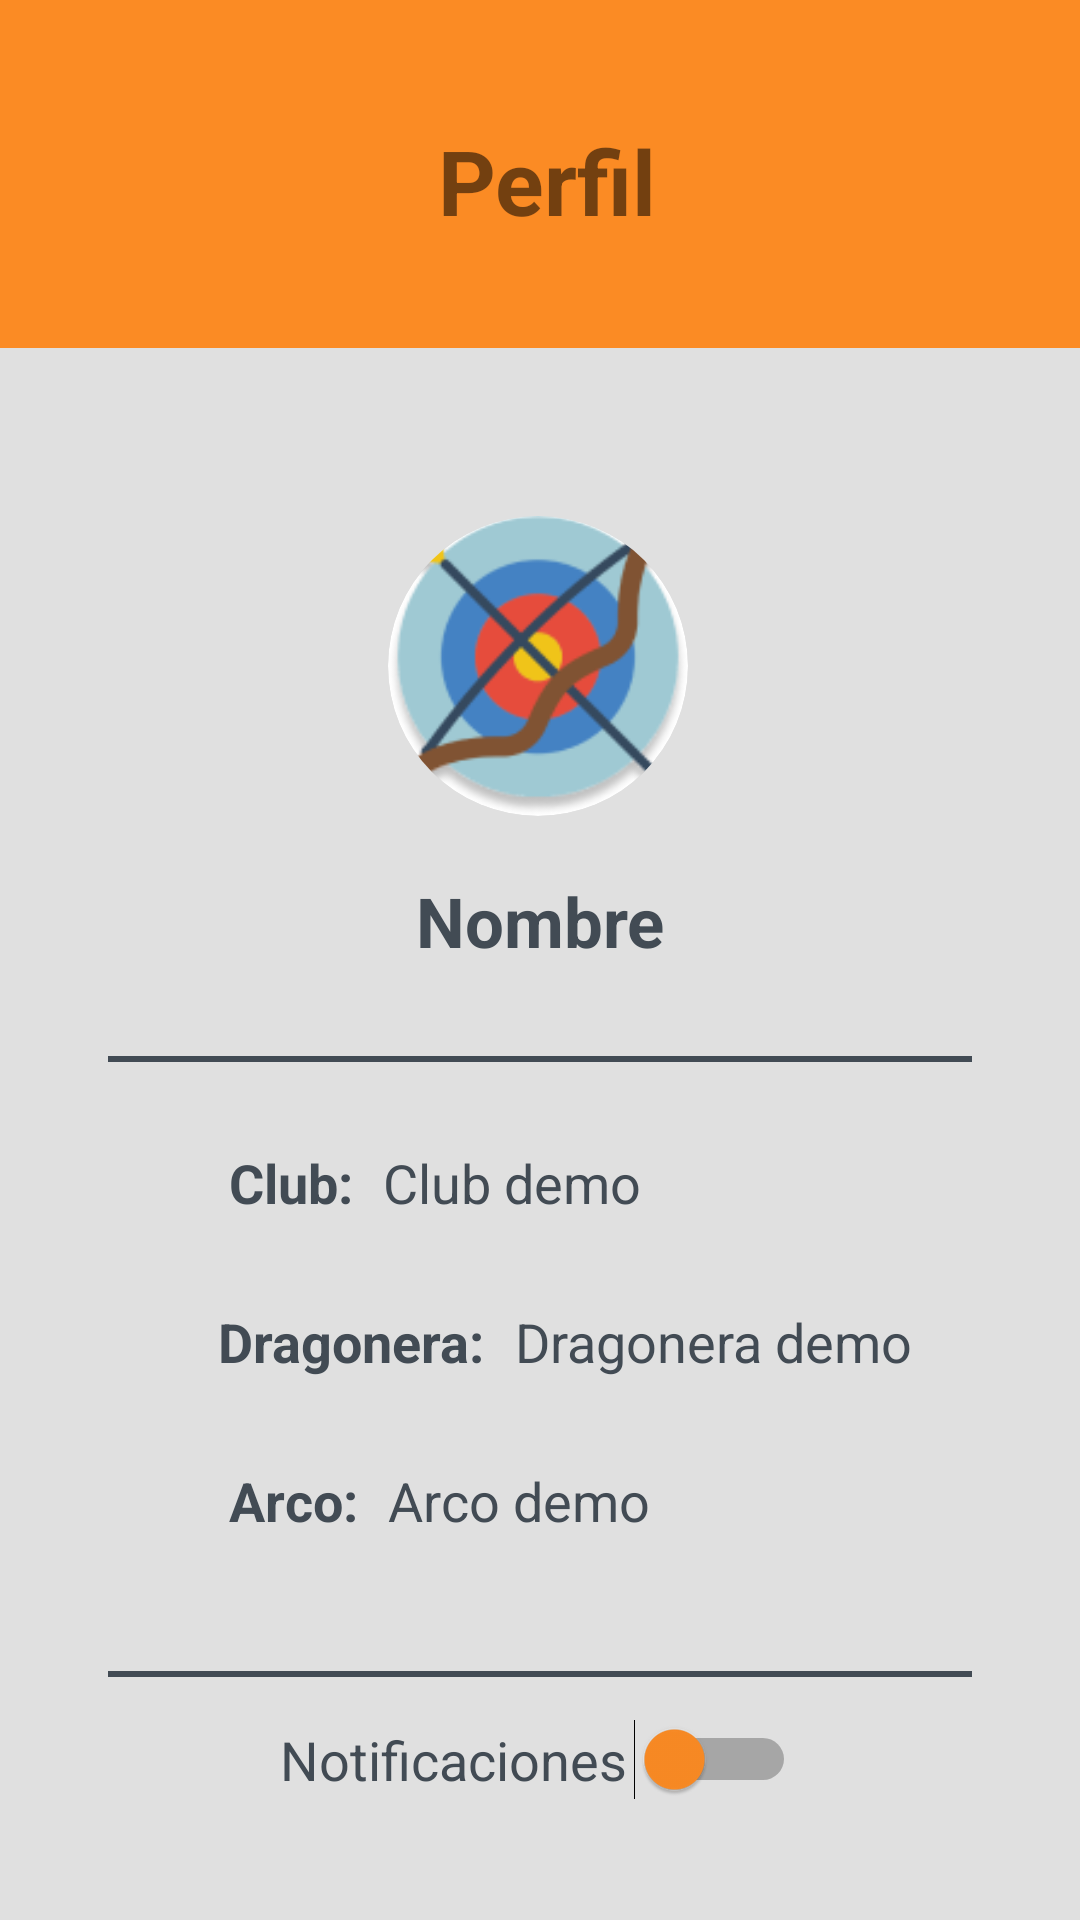

Named icons in this screenshot (1080 x 1920) and their bounding boxes, region(x1, y1, x2, y2):
archery: region(388, 516, 688, 816)
